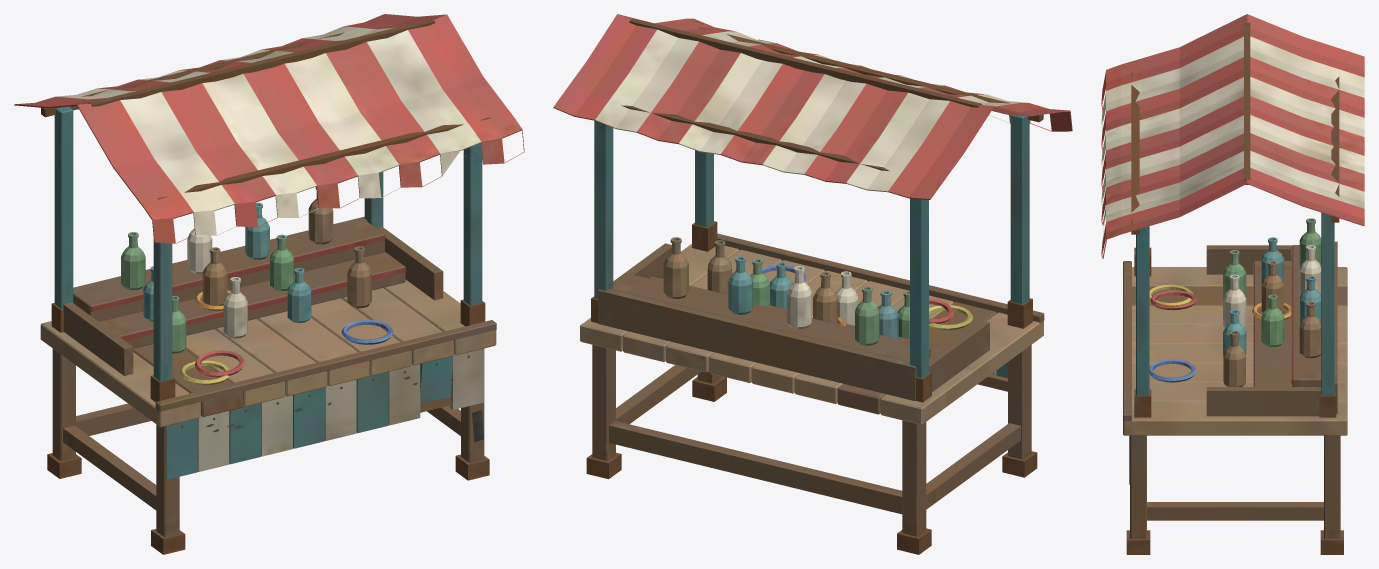
The model's file is CE01_ring_toss_stall.glb.
The picture shows the model from 3 angles, left to right: view 1: azimuth 30°, elevation 25°; view 2: azimuth 150°, elevation 25°; view 3: azimuth 270°, elevation 25°; orthographic projection. The views are drawn at different scales.
Parts seen in each view (by area): view 1: Steel foot; view 2: Steel foot; view 3: Steel foot.
Part boxes in pixels (x1,y1,x2,y2): Steel foot: (14, 14, 524, 554); Steel foot: (553, 14, 1072, 554); Steel foot: (1101, 14, 1364, 554).
Bounding box in the file's own units: 2.85 × 3 × 1.87.
17 materials, 17 textured.
